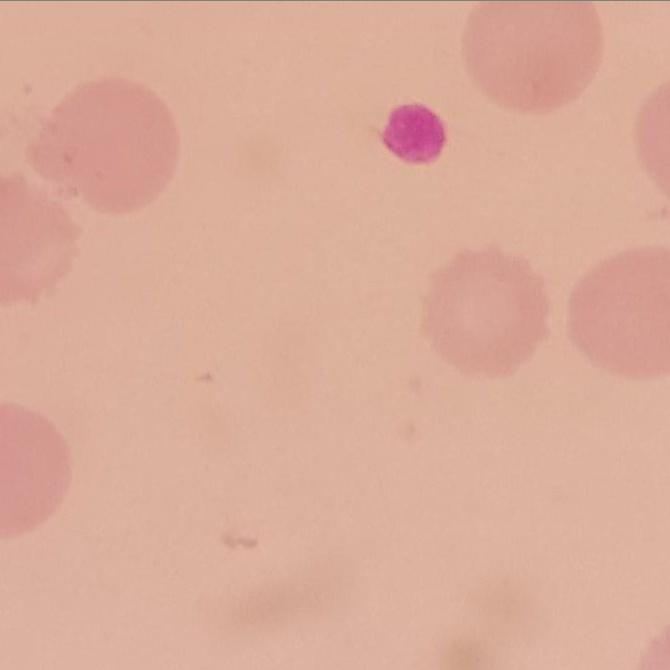Uninfected: (33, 75, 180, 217), (415, 248, 548, 374), (461, 2, 602, 115), (569, 249, 670, 379)
